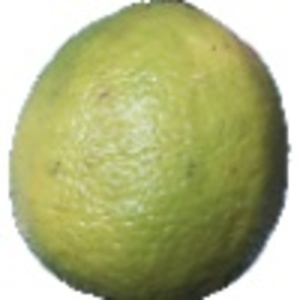limão: (1, 1, 290, 300)
